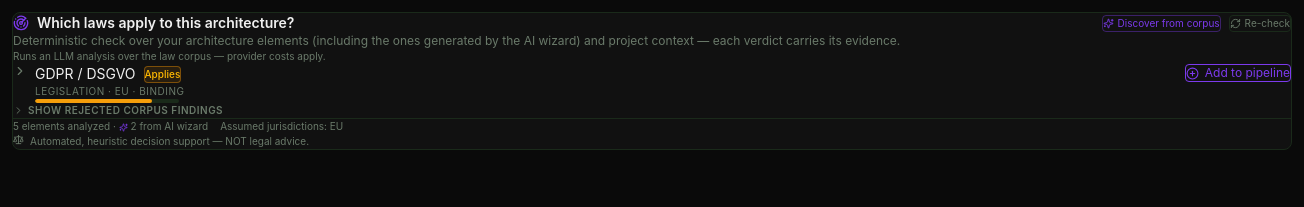
Test: ApplicabilityCheck — Discover from corpus (UC-LAW-002 Slice-2b) › discover flow › click runs discover, merged report replaces the display with provenance/auto badges
The width and height of the screenshot is (1304, 207).
Expected: the text "GDPR / DSGVO" is shown, [35,64,136,84]
Click the button "Discover from corpus".
click(1161, 23)  # box [1102,14,1221,32]
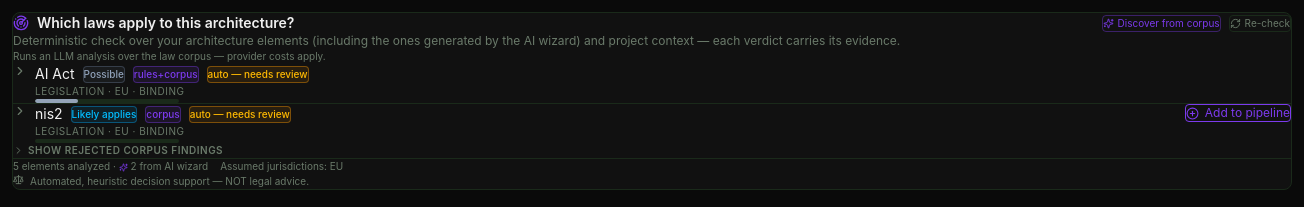
Now the text "AI Act" is shown, box [35,64,75,84]
Now the text "rules+corpus" is shown, box [133,66,199,82]
Now the text "corpus" is shown, box [145,106,181,122]
